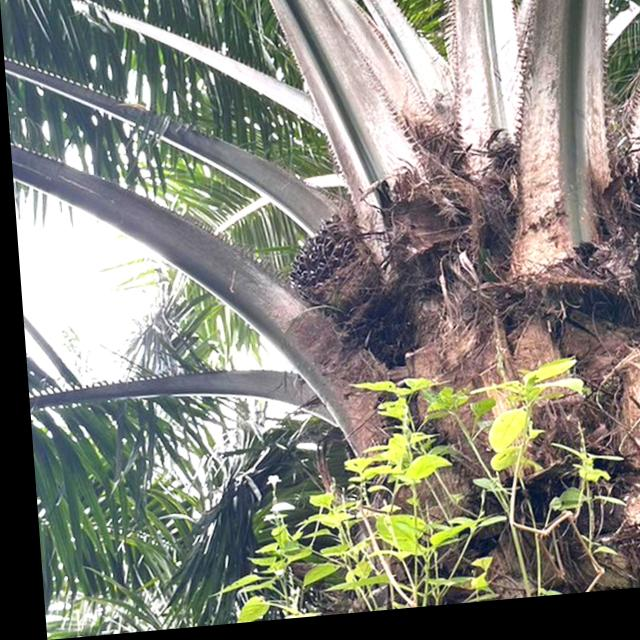almost: (268, 208, 387, 339)
